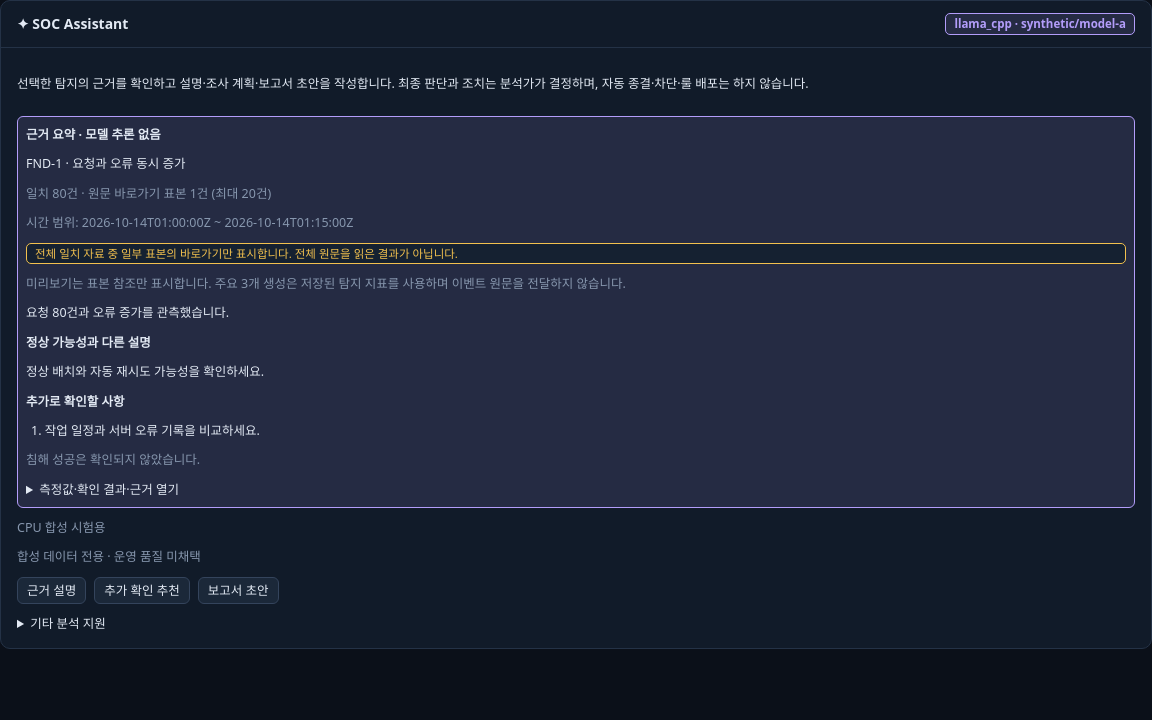
Test: distinguishes unreviewed checks from failed and satisfied conditions
Expected: the text "요청 80건과 오류 증가를 관측했습니다." is shown, x1=26 y1=304 x2=229 y2=322
Click the heading "측정값·확인 결과·근거 열기". click: (109, 489)
box: x1=39 y1=481 x2=179 y2=498
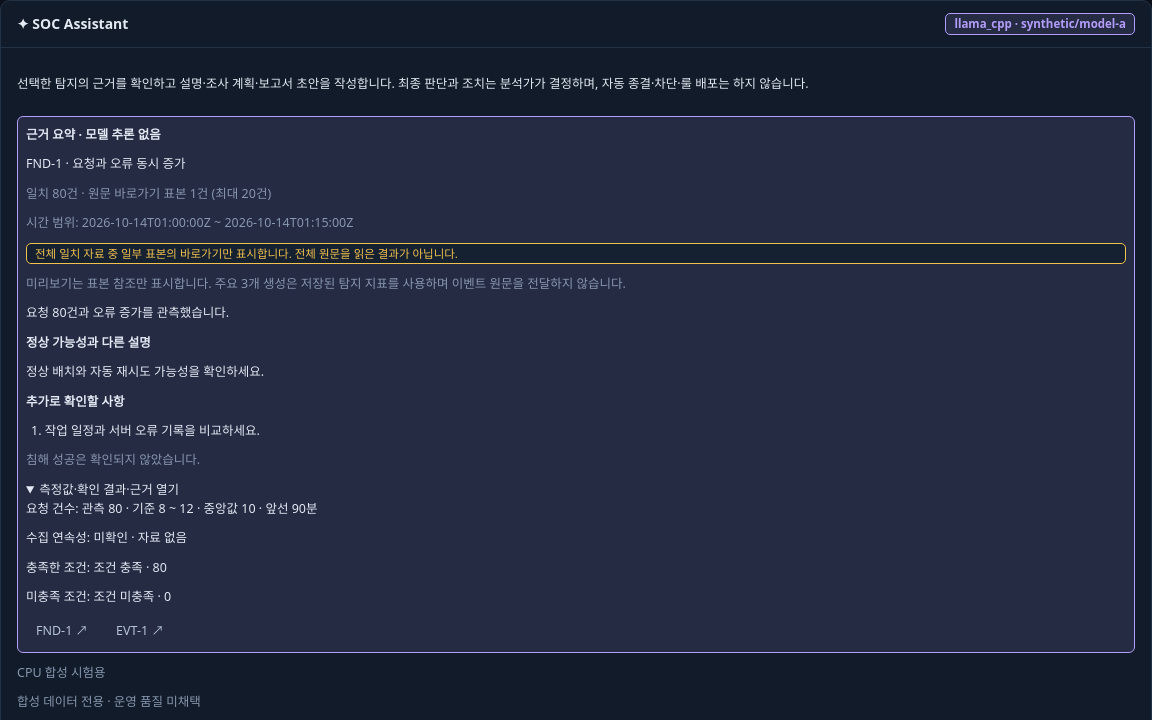
Result: the text "수집 연속성: 미확인 · 자료 없음" is shown at x1=26 y1=530 x2=187 y2=546
Result: the text "충족한 조건: 조건 충족 · 80" is shown at x1=26 y1=559 x2=167 y2=576
Result: the text "미충족 조건: 조건 미충족 · 0" is shown at x1=26 y1=588 x2=171 y2=605
